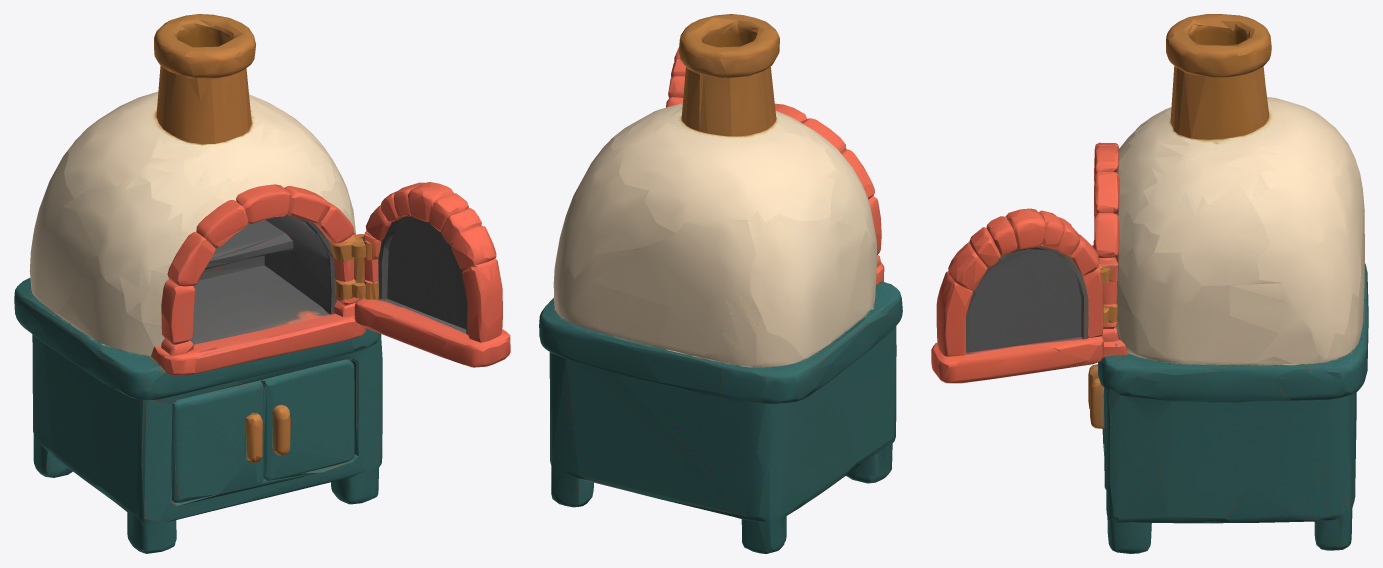
The model's file is rounded-restaurant-pizza-oven-open-empty.glb.
3 renders of one model, left to right at view 1: azimuth 30°, elevation 25°; view 2: azimuth 150°, elevation 25°; view 3: azimuth 270°, elevation 25°, orthographic. The views are drawn at different scales.
Parts seen in each view (by area): view 1: Mesh_0; view 2: Mesh_0; view 3: Mesh_0.
Part boxes in pixels (x1,y1,x2,y2): Mesh_0: (14,14,510,553); Mesh_0: (539,14,902,553); Mesh_0: (931,14,1368,553).
Size of the model in its own units: 1.07 by 1.52 by 1.3.
1 material, 1 textured.
